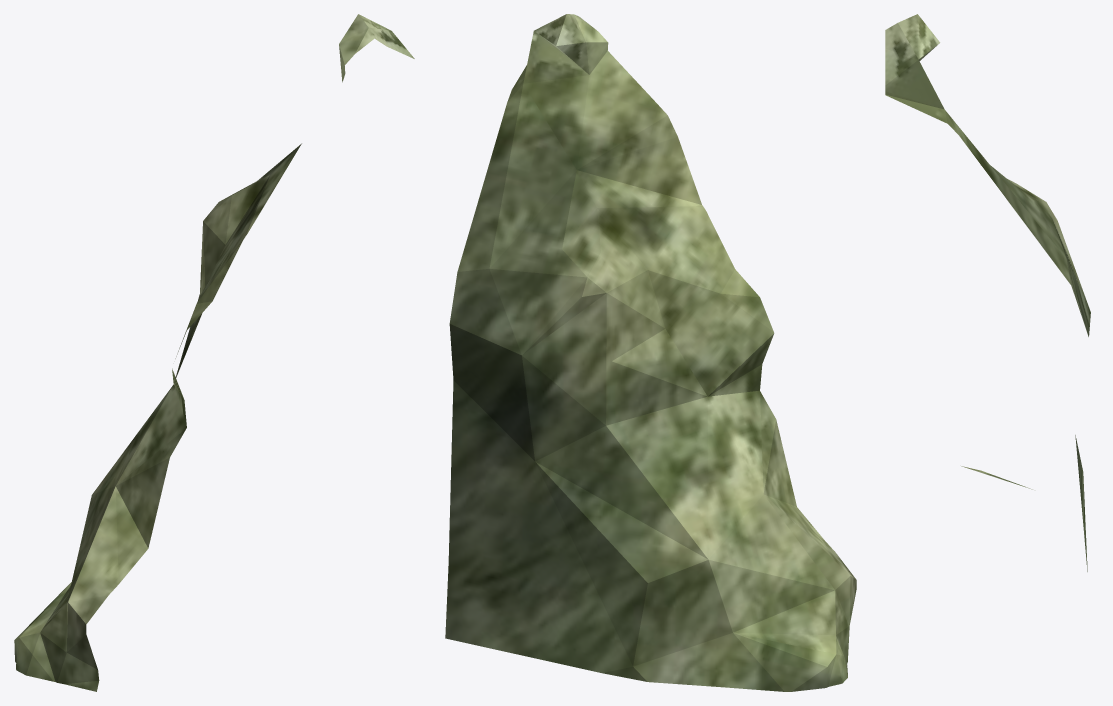
3 renders of one model, left to right at view 1: azimuth 30°, elevation 25°; view 2: azimuth 150°, elevation 25°; view 3: azimuth 270°, elevation 25°, orthographic. The views are drawn at different scales.
Bounding box in the file's own units: 1.69 × 2.7 × 0.7986.
1 material, 1 textured.
